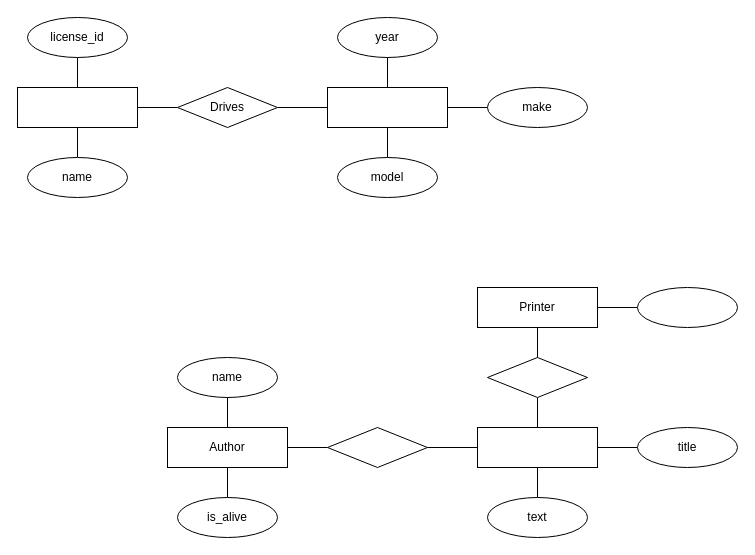
Image size: 755x555. Some labels were removed from this diagram. The shapes that lost their labels are listed below. From the top down, each one's box as (x1, y1, x2, y2) in pixels, then its label:
(16, 86, 138, 128): Driver
(326, 86, 448, 128): Car
(636, 286, 738, 328): company
(486, 356, 588, 398): Prints
(326, 426, 428, 468): Writes
(476, 426, 598, 468): Book
